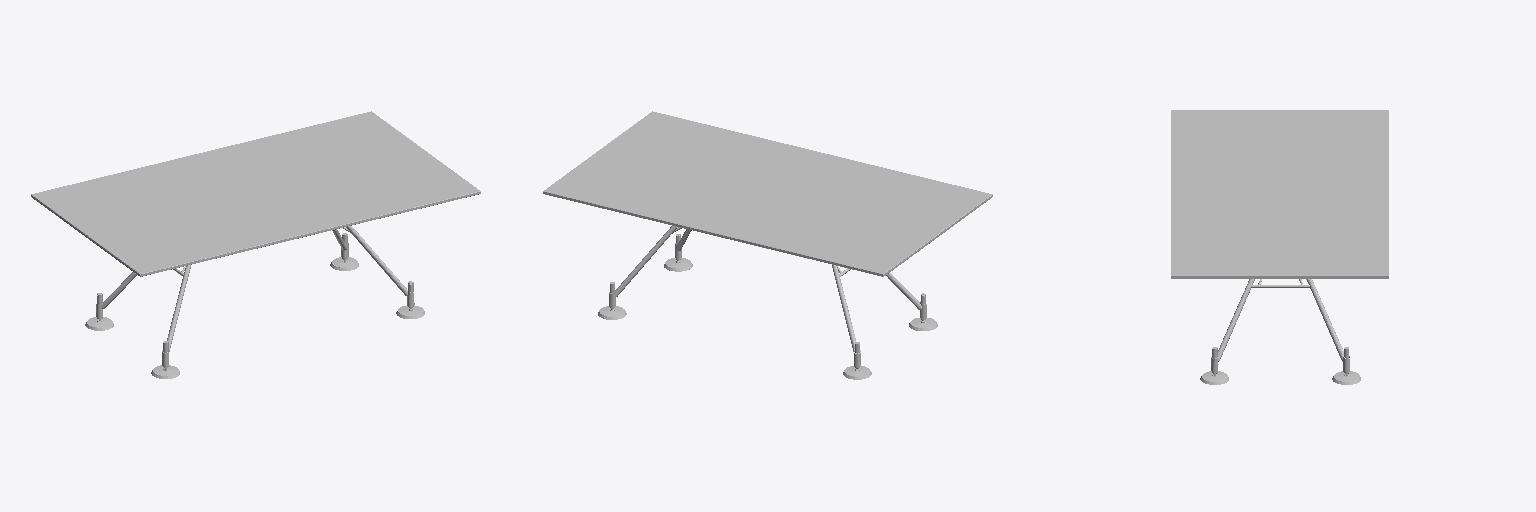
The model's file is table.obj.
3 renders of one model, left to right at view 1: azimuth 30°, elevation 25°; view 2: azimuth 150°, elevation 25°; view 3: azimuth 270°, elevation 25°, orthographic.
Visible parts, largest first — view 1: Object01, Norman_Fos; view 2: Object01, Norman_Fos; view 3: Object01, Norman_Fos.
Boxes of the visible parts, box(x1,y1,x2,y2) form: Object01: box(31, 111, 480, 276); Norman_Fos: box(85, 226, 424, 378); Object01: box(543, 111, 992, 276); Norman_Fos: box(598, 226, 937, 379); Object01: box(1171, 110, 1388, 278); Norman_Fos: box(1200, 279, 1360, 384).
Size of the model in its own units: 1.8 by 0.6391 by 1.